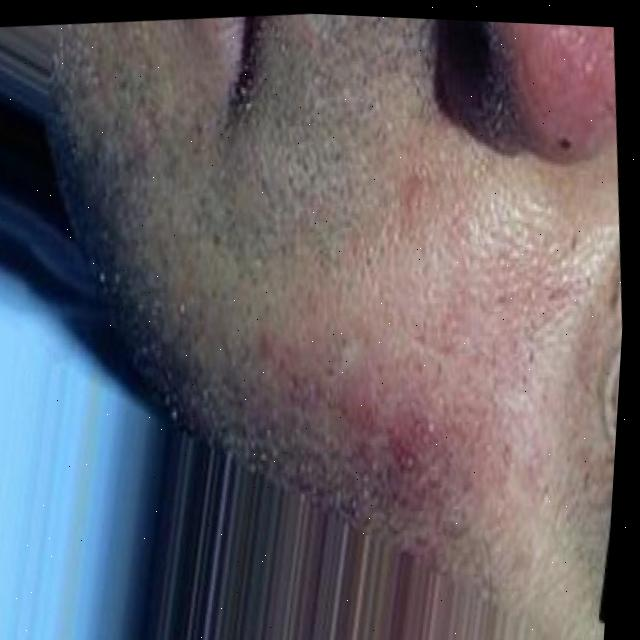Rosacea: (344, 359, 500, 506)
